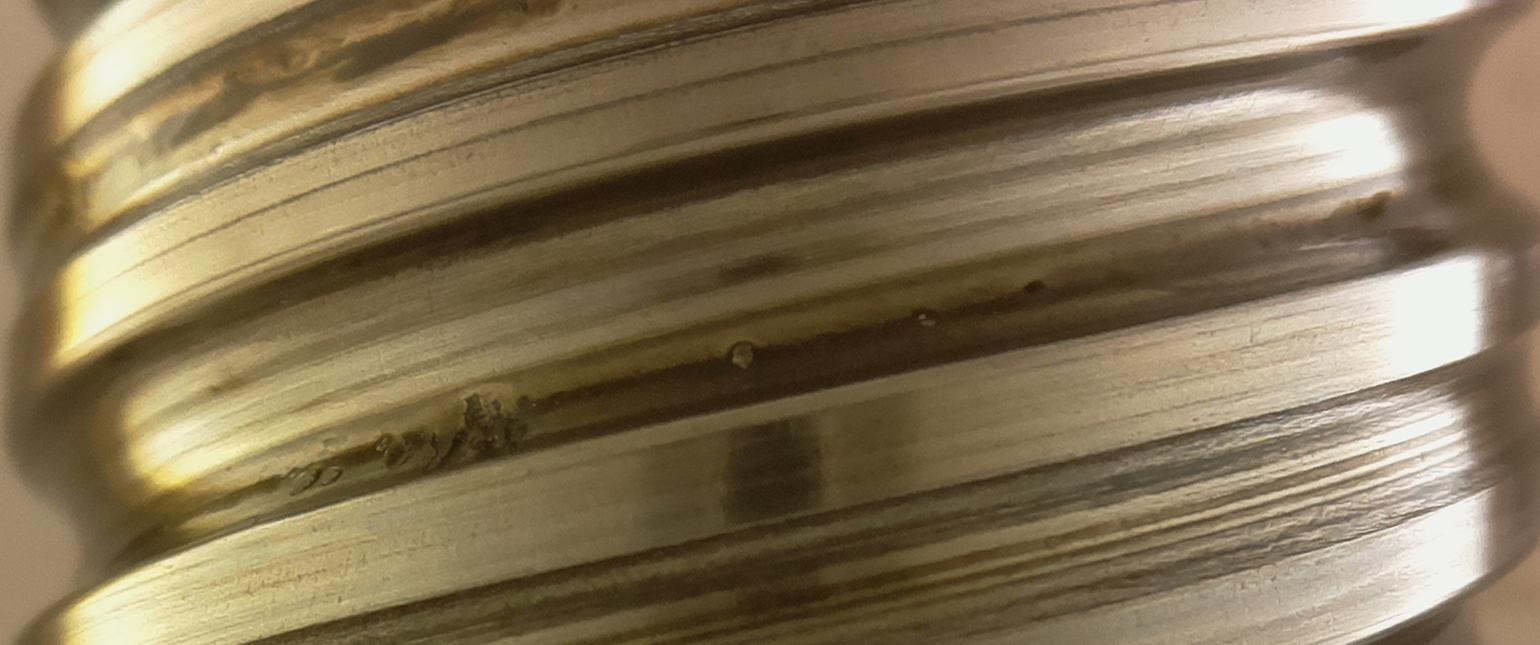pitting: (423, 392, 533, 474)
